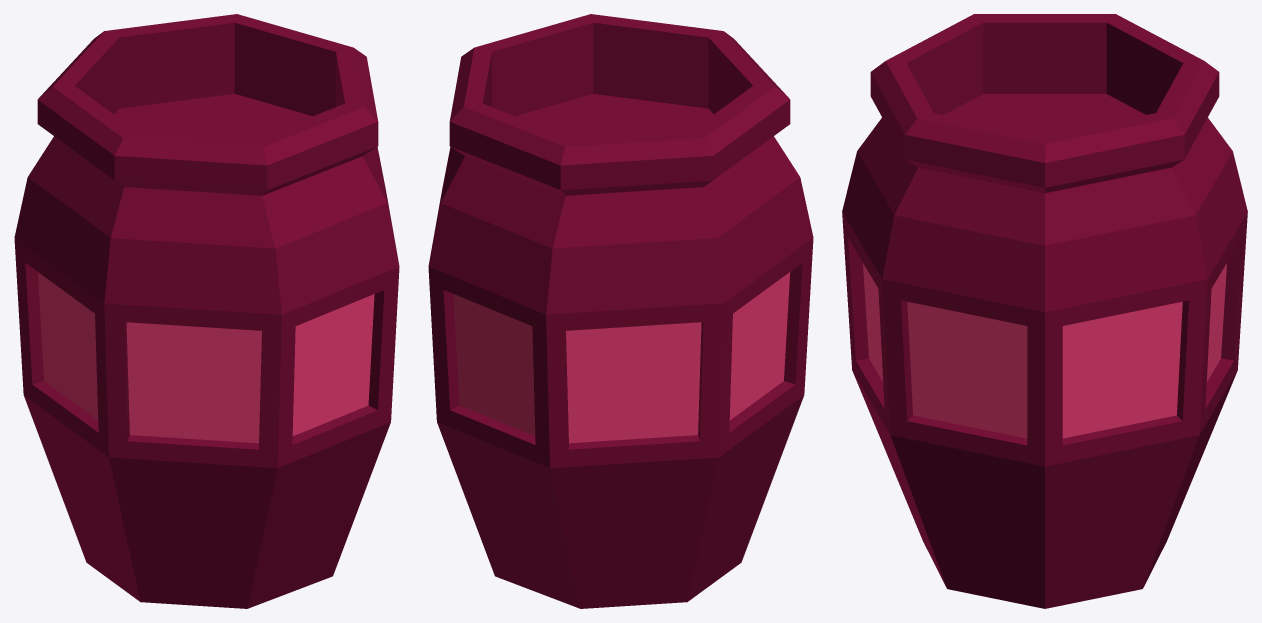
File: Aquarius.fbx
The picture shows the model from 3 angles, left to right: view 1: azimuth 30°, elevation 25°; view 2: azimuth 150°, elevation 25°; view 3: azimuth 270°, elevation 25°; orthographic projection.
Visible parts, largest first — view 1: Aquarius; view 2: Aquarius; view 3: Aquarius.
Boxes of the visible parts, x1,y1,x2,y2 form: Aquarius: (14,14,399,608); Aquarius: (428,14,813,608); Aquarius: (842,14,1247,608).
Size of the model in its own units: 3.8 by 5.29 by 4.07.
